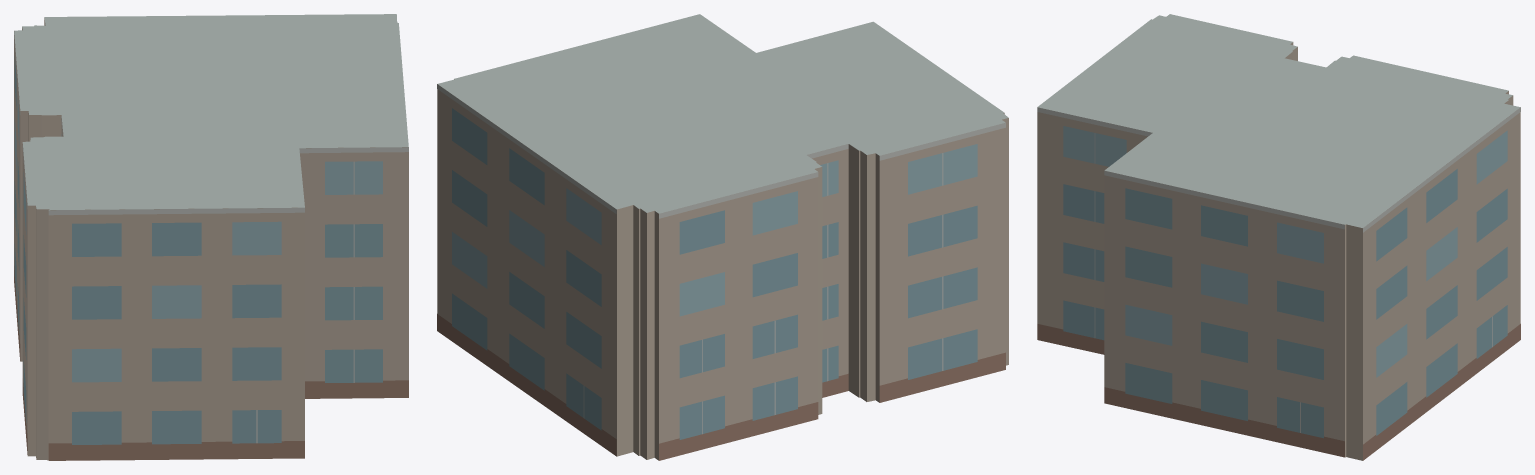
The model's file is survey-upis-33045720.glb.
The picture shows the model from 3 angles, left to right: view 1: azimuth 30°, elevation 25°; view 2: azimuth 150°, elevation 25°; view 3: azimuth 270°, elevation 25°; orthographic projection. The views are drawn at different scales.
Visible parts, largest first — view 1: survey-upis-33045720.tmp; view 2: survey-upis-33045720.tmp; view 3: survey-upis-33045720.tmp.
Part boxes in pixels (x1=…): survey-upis-33045720.tmp: x1=14, y1=14, x2=408, y2=460; survey-upis-33045720.tmp: x1=437, y1=14, x2=1008, y2=460; survey-upis-33045720.tmp: x1=1037, y1=14, x2=1520, y2=460.
Bounding box in the file's own units: 23.89 × 12.1 × 22.8.
